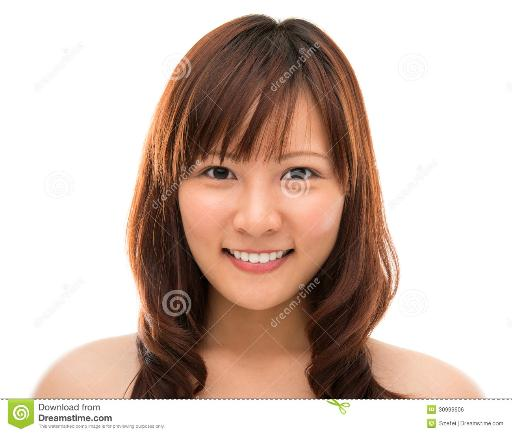left_eye: (282, 170, 326, 190)
left_lip_corner: (287, 248, 299, 259)
right_eye: (198, 165, 240, 185)
right_lip_corner: (218, 246, 232, 258)
